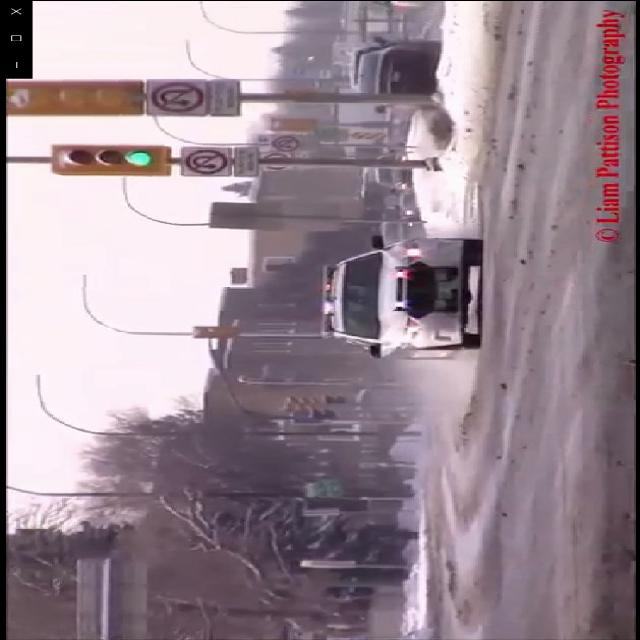emergency: (319, 233, 475, 359)
